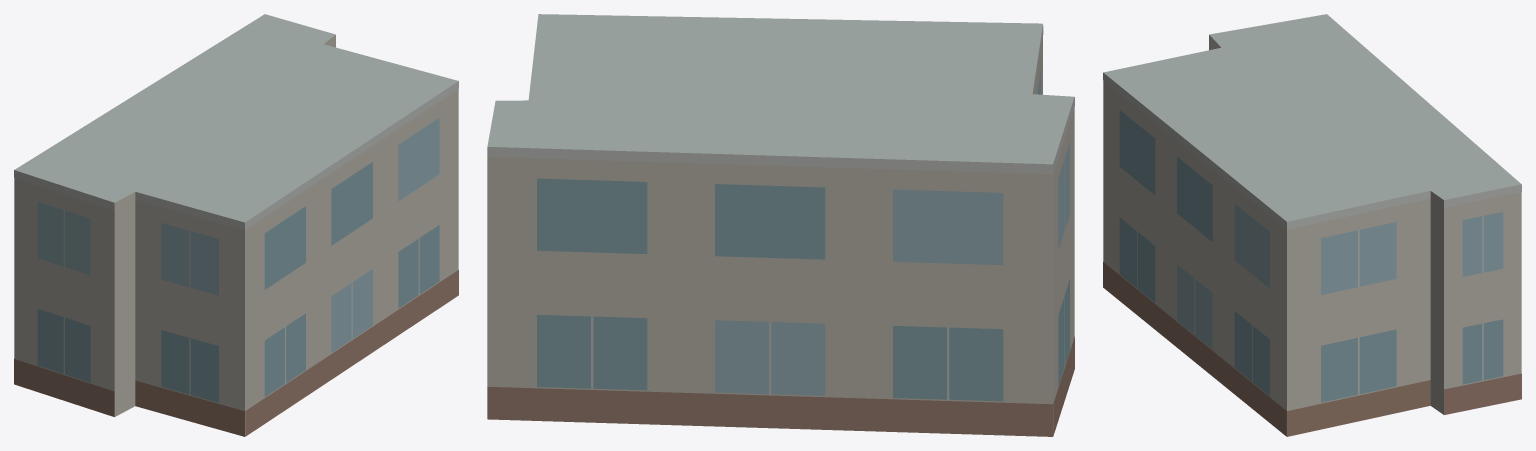
The model's file is survey-upis-32925007.glb.
3 renders of one model, left to right at view 1: azimuth 30°, elevation 25°; view 2: azimuth 150°, elevation 25°; view 3: azimuth 270°, elevation 25°, orthographic. The views are drawn at different scales.
Visible parts, largest first — view 1: survey-upis-32925007.tmp; view 2: survey-upis-32925007.tmp; view 3: survey-upis-32925007.tmp.
Part boxes in pixels (<box>): survey-upis-32925007.tmp: <box>14,14,458,436</box>; survey-upis-32925007.tmp: <box>487,14,1074,436</box>; survey-upis-32925007.tmp: <box>1103,14,1521,436</box>.
Bounding box in the file's own units: 13.9 × 6.7 × 11.83.
